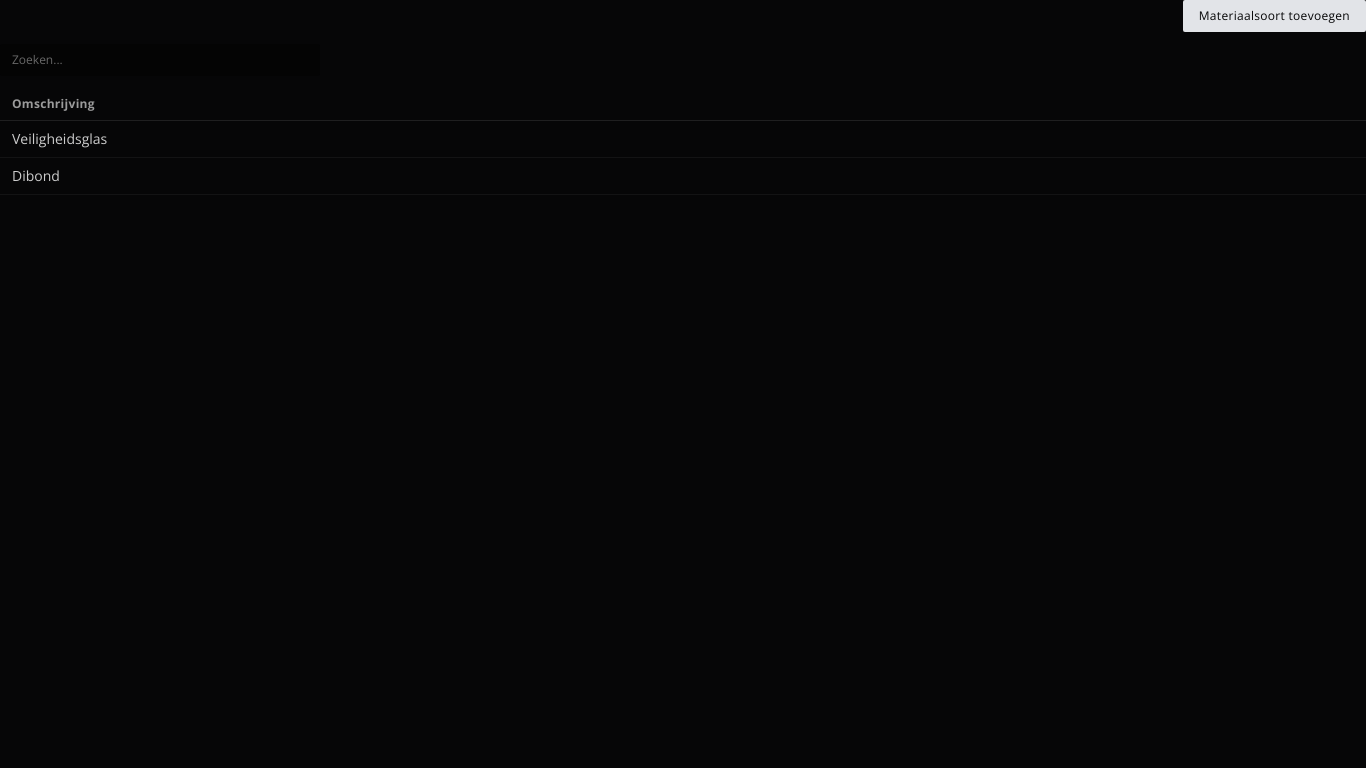
MateriaalsoortenSection › adds a new materiaalsoort and closes the modal
Step 1. Click the button with test id "materiaalsoorten-add" → (1274, 16), box [1183,0,1365,32]
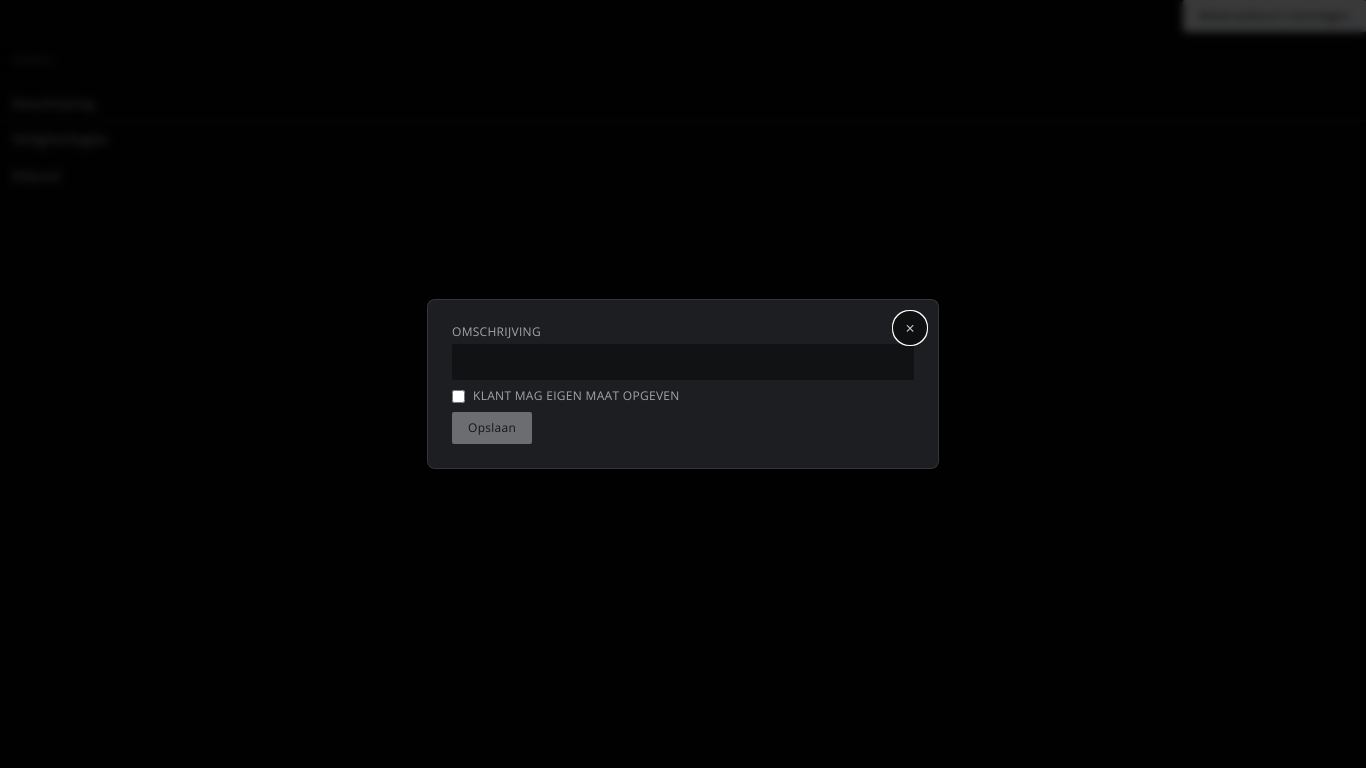
Step 2. Type "Acryl" into the field with test id "materiaalsoort-modal-omschrijving" → (683, 362), box [452,344,914,380]
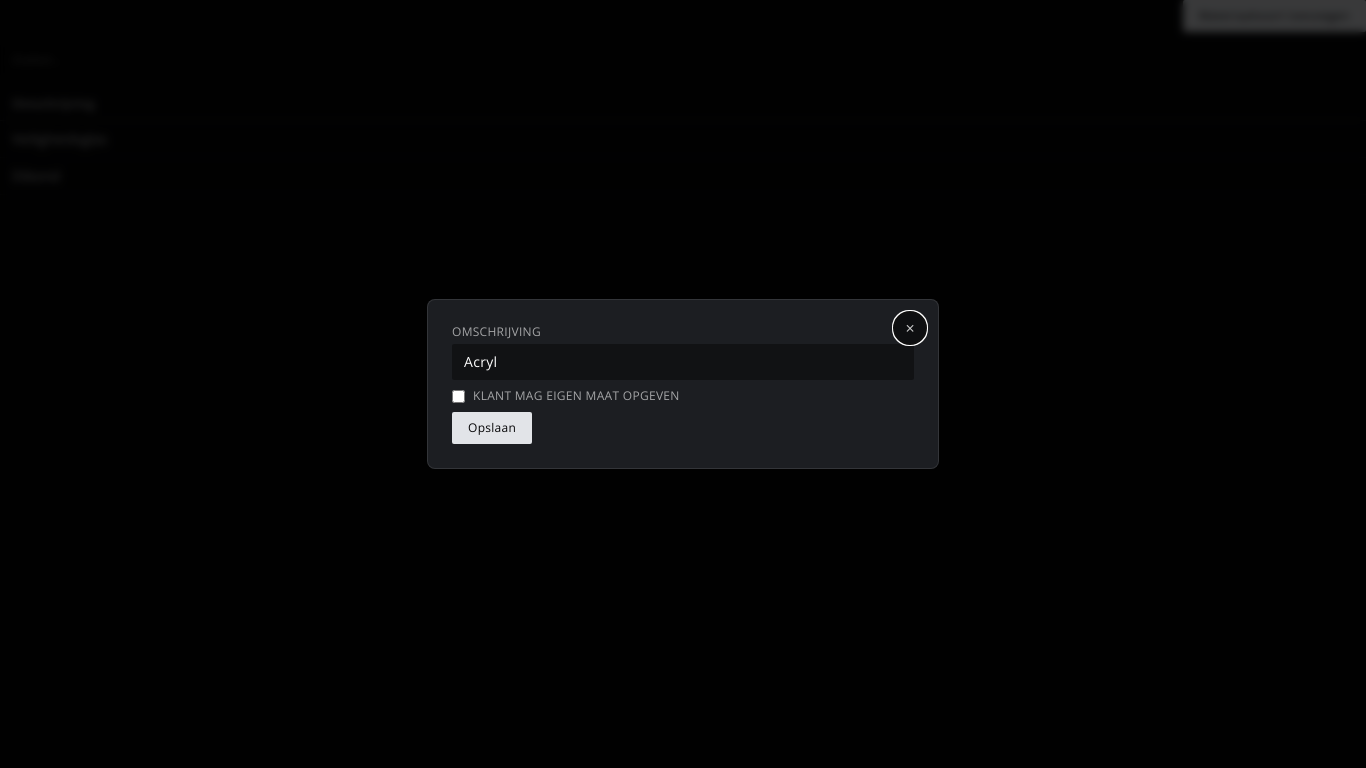
Step 3. Click the button with test id "materiaalsoort-modal-opslaan" → (492, 428), box [452,412,532,444]
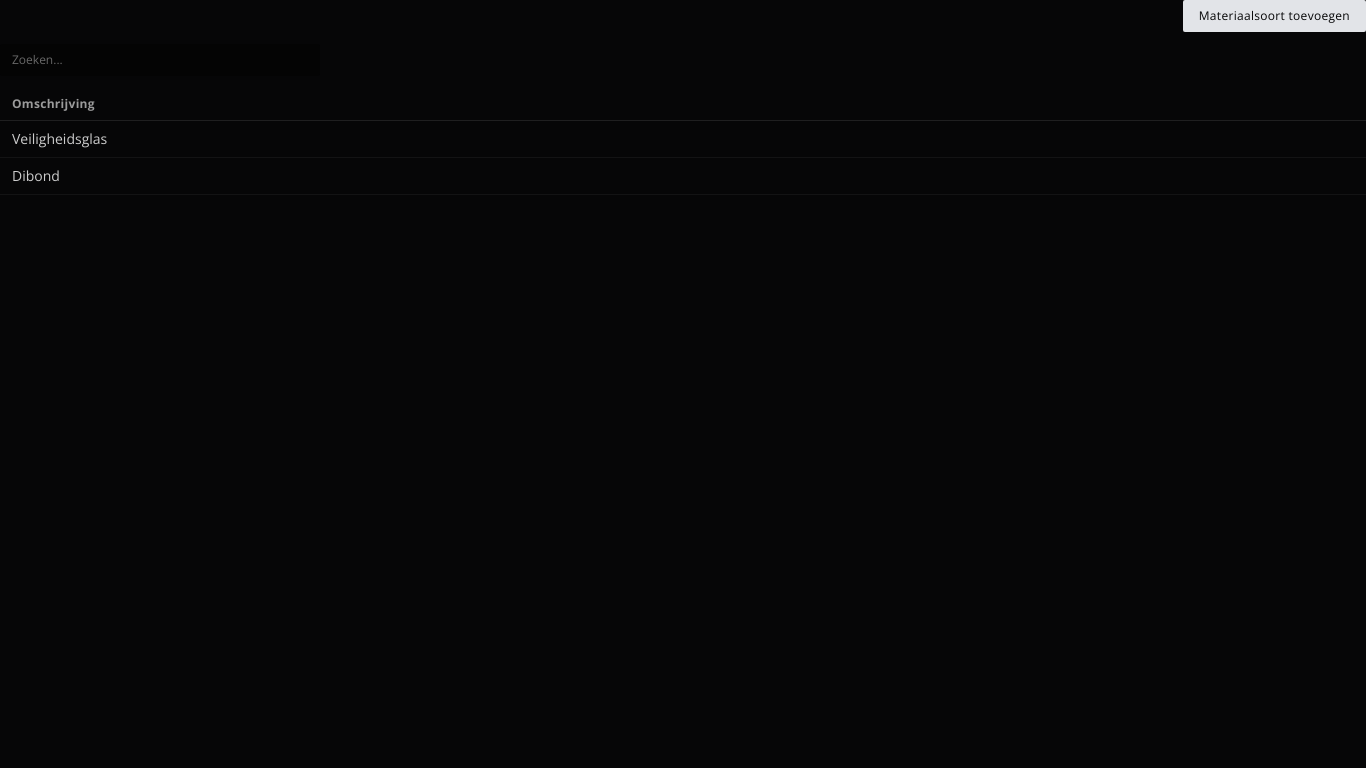
Check: the element with test id "materiaalsoort-modal" is gone
